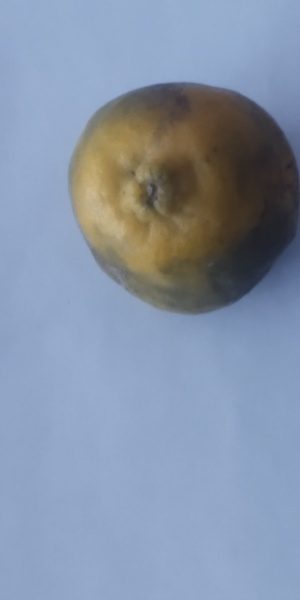BAD: (66, 78, 300, 317)
